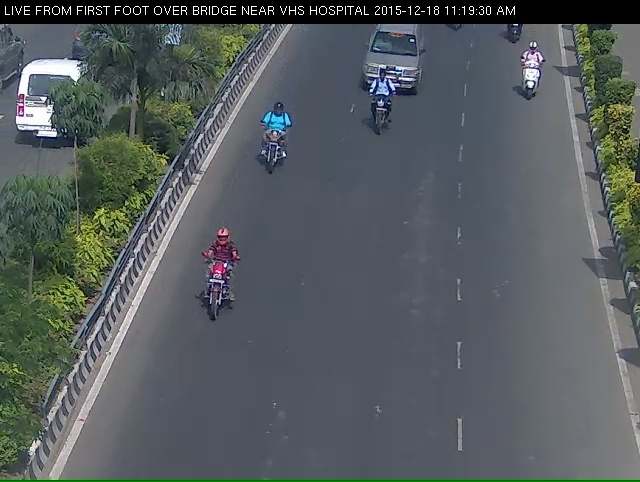Car: (358, 24, 423, 101)
Person: (191, 250, 228, 349), (251, 112, 291, 195), (364, 77, 389, 147), (520, 46, 548, 105)
